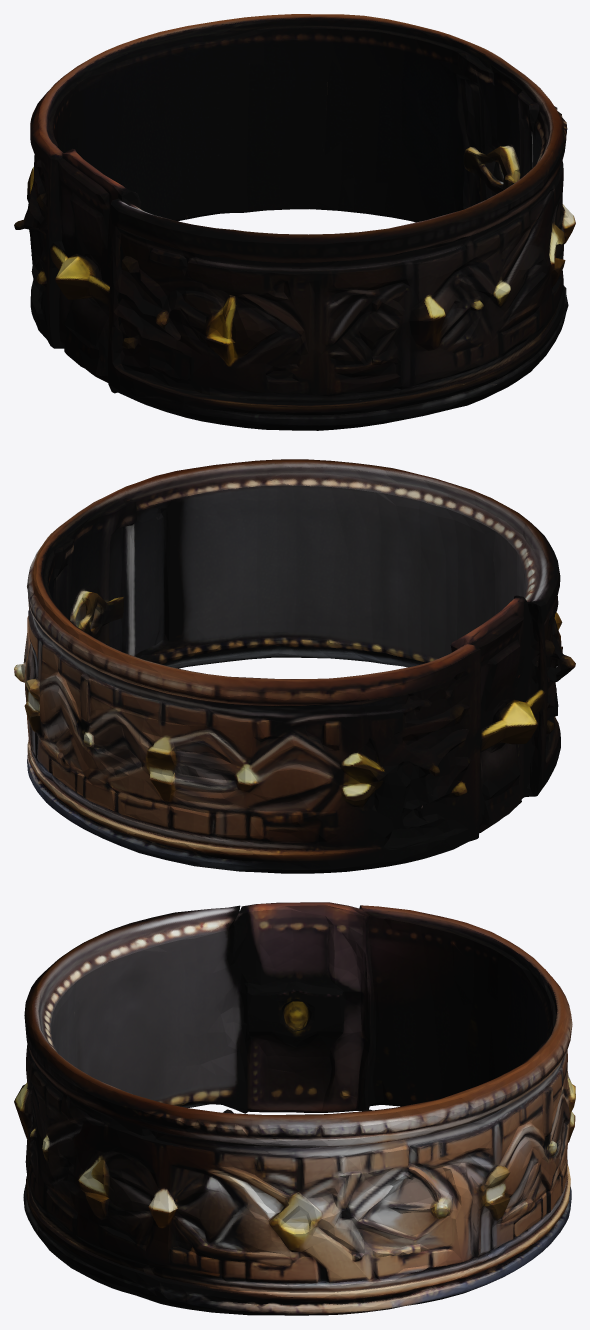
The model's file is leather-cuff-bracelet-art-deco.jpeg.glb.
3 views of the same model, one above another, from view 1: azimuth 30°, elevation 25°; view 2: azimuth 150°, elevation 25°; view 3: azimuth 270°, elevation 25° (orthographic).
Visible parts, largest first — view 1: world; view 2: world; view 3: world.
Part boxes in pixels (x1,y1,x2,y2): world: (14,14,575,430); world: (14,459,575,873); world: (14,902,575,1315).
Size of the model in its own units: 0.9891 by 0.4103 by 0.9979.
1 material, 1 textured.
